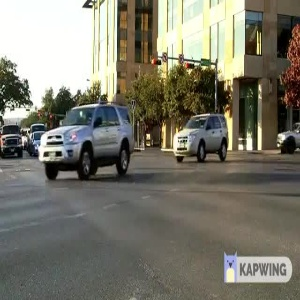suv: (37, 101, 140, 187), (170, 109, 234, 164)
